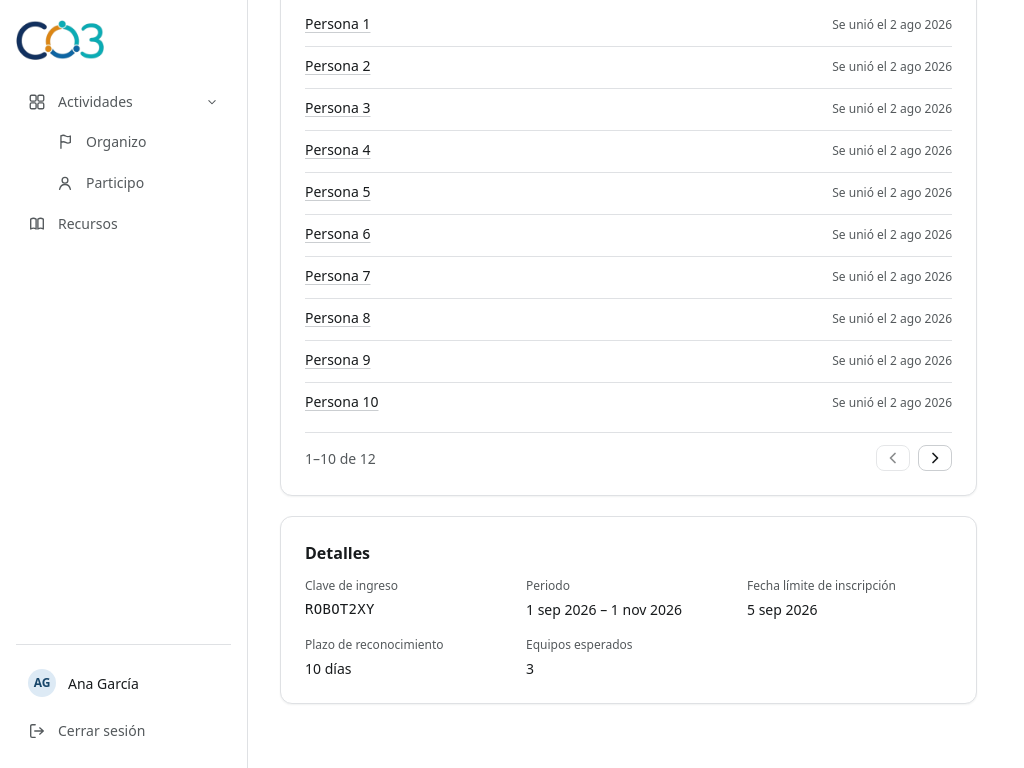
Test case: PantallaResumenActividad › con muchos participantes › pagina de 10 en 10 y el título cuenta a todos
The width and height of the screenshot is (1024, 768).
(page scrolled)
Expected: the link "Persona 10" is shown, [305, 392, 378, 411]
Expected: the text "Persona 11" is not shown
Click the button named "Siguiente" at {"x": 935, "y": 458}, box [918, 445, 952, 471]
(page scrolled)
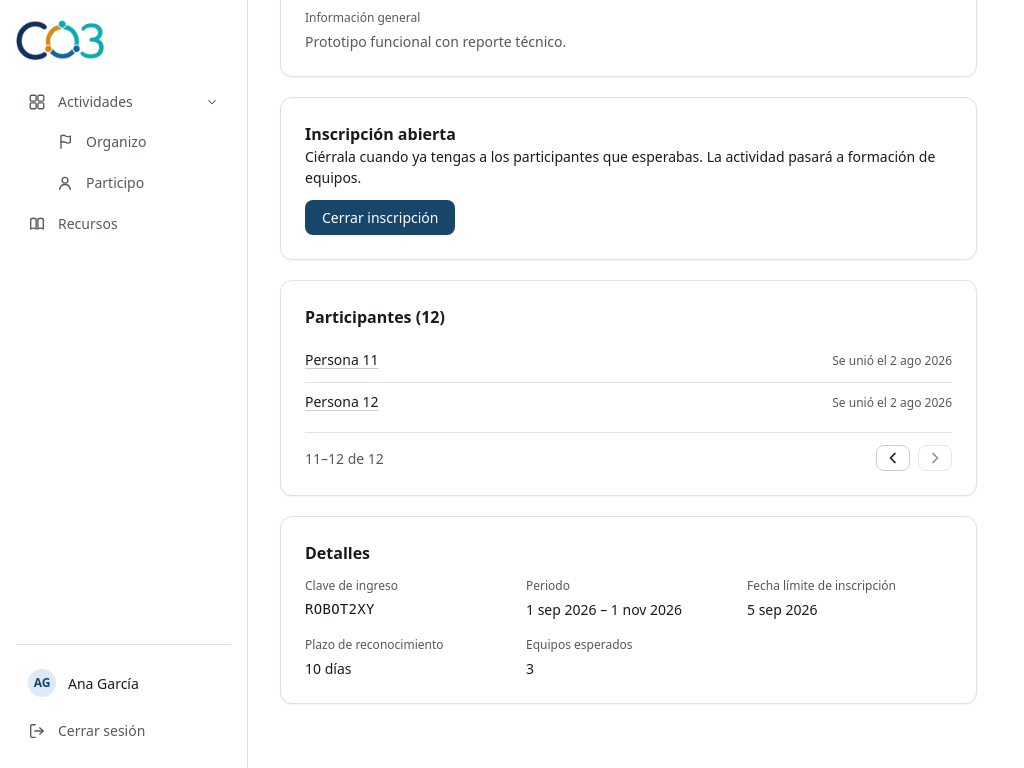
Now the link "Persona 12" is shown, box [305, 392, 378, 411]
Now the text "11–12 de 12" is shown, box [305, 448, 384, 468]
